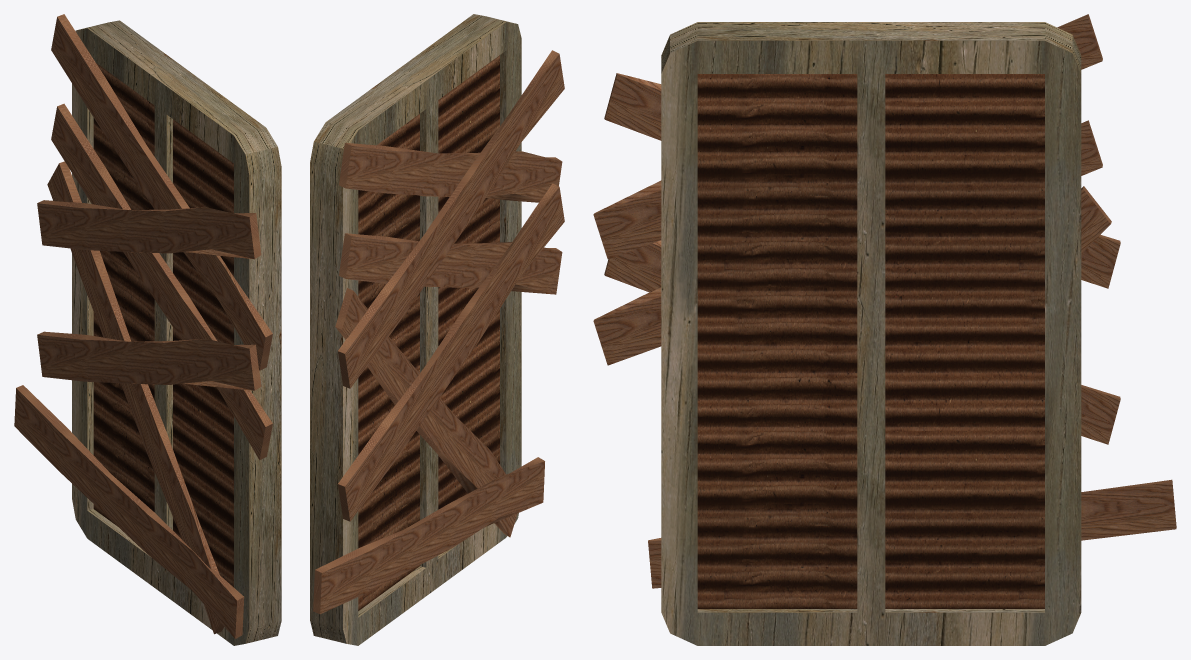
File: boardedwindow4.FBX
3 views of the same model, side by side, from view 1: azimuth 30°, elevation 25°; view 2: azimuth 150°, elevation 25°; view 3: azimuth 270°, elevation 25° (orthographic). The views are drawn at different scales.
Parts seen in each view (by area): view 1: boarded window, window, Box007, Box006, Box004, Box005, Box002, Box003; view 2: boarded window, window, Box004, Box005, Box007, Box006, Box002, Box003; view 3: window, boarded window, Box007, Box006, Box005, Box002, Box004, Box003.
Boxes of the visible parts, <box> form: boarded window: <box>72,20,281,645</box>; window: <box>93,63,233,587</box>; Box007: <box>14,385,244,638</box>; Box006: <box>51,14,272,370</box>; Box004: <box>37,331,261,390</box>; Box005: <box>37,200,261,259</box>; Box002: <box>51,103,272,460</box>; Box003: <box>47,161,223,634</box>; boarded window: <box>310,14,521,645</box>; window: <box>358,55,499,610</box>; Box004: <box>338,183,564,521</box>; Box005: <box>338,50,564,388</box>; Box007: <box>313,457,544,614</box>; Box006: <box>339,142,562,202</box>; Box002: <box>339,233,562,294</box>; Box003: <box>335,288,517,537</box>; window: <box>697,74,1044,608</box>; boarded window: <box>661,22,1081,645</box>; Box007: <box>648,479,1176,588</box>; Box006: <box>593,14,1102,259</box>; Box005: <box>604,73,1120,288</box>; Box002: <box>593,120,1102,365</box>; Box004: <box>604,240,1120,444</box>; Box003: <box>1081,186,1111,253</box>.
Size of the model in its own units: 9.5 by 91.27 by 79.36.
3 materials, 3 textured.
